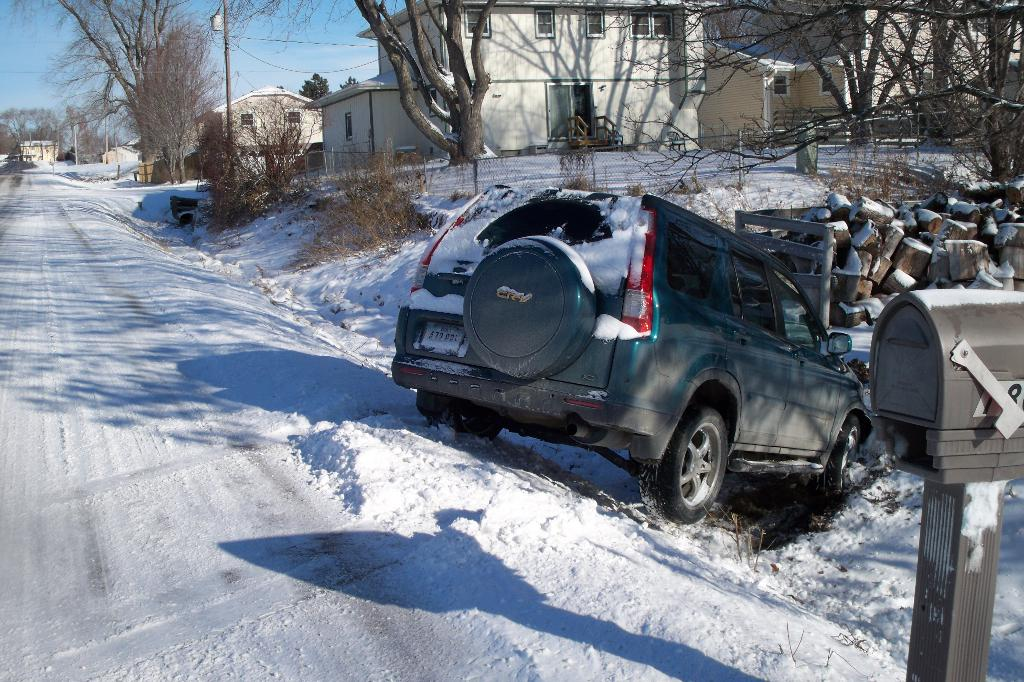car: (368, 173, 896, 511)
